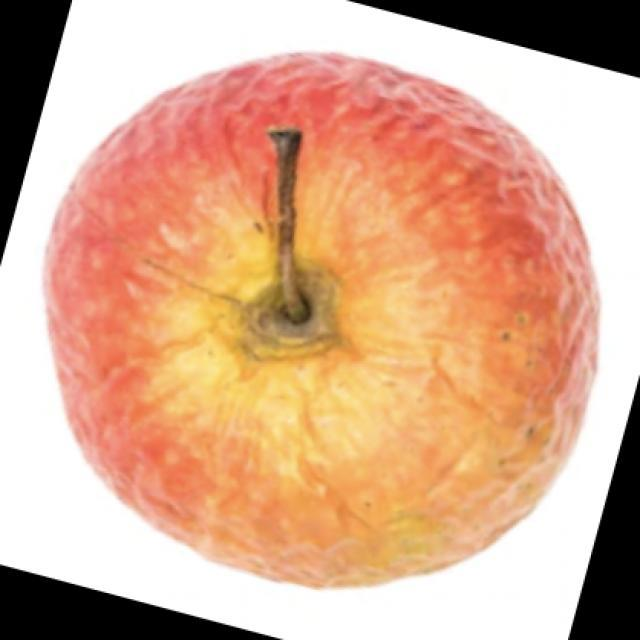Rotten: (29, 60, 594, 572)
